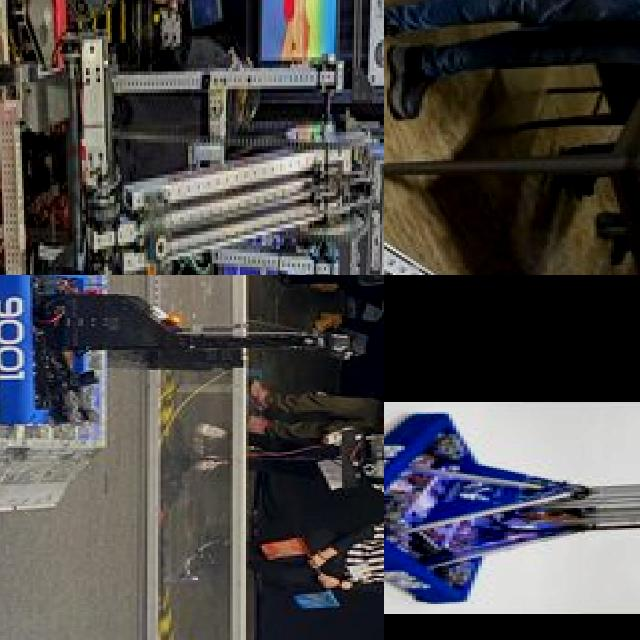FRC-Robots: (0, 0, 384, 275), (384, 17, 640, 275), (0, 275, 360, 442), (384, 417, 640, 608)
